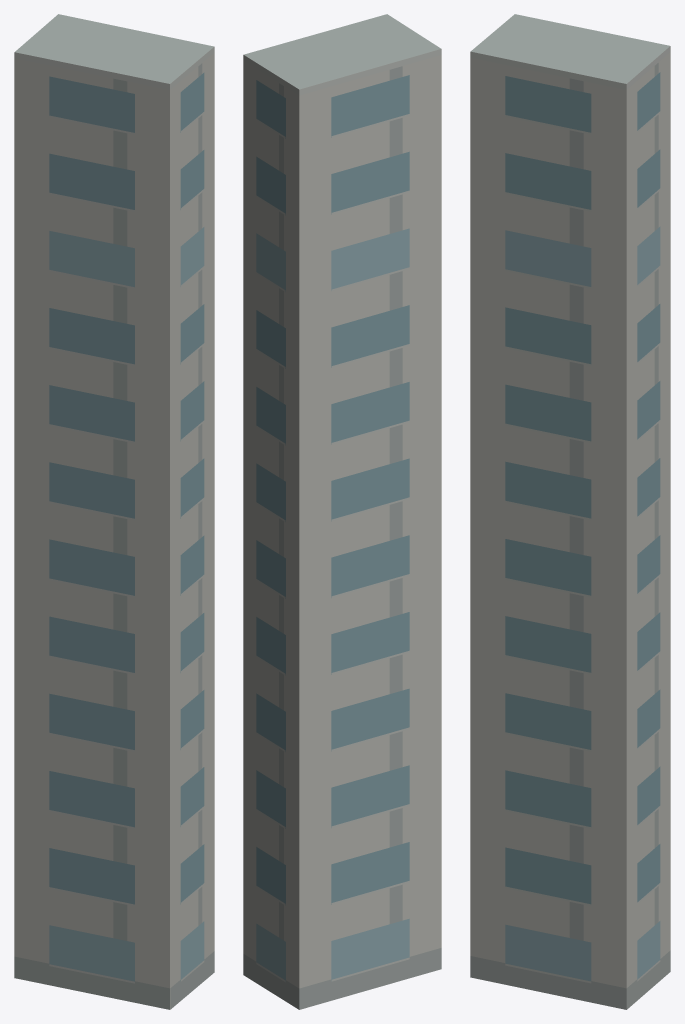
The model's file is survey-upis-32550445.glb.
The picture shows the model from 3 angles, left to right: view 1: azimuth 90°, elevation 25°; view 2: azimuth 150°, elevation 25°; view 3: azimuth 270°, elevation 25°; orthographic projection.
Visible parts, largest first — view 1: survey-upis-32550445.tmp; view 2: survey-upis-32550445.tmp; view 3: survey-upis-32550445.tmp.
Part boxes in pixels (bbox=[...]): survey-upis-32550445.tmp: bbox=[14, 14, 214, 1009]; survey-upis-32550445.tmp: bbox=[243, 14, 441, 1009]; survey-upis-32550445.tmp: bbox=[470, 14, 670, 1009].
Bounding box in the file's own units: 5.95 × 36.6 × 7.18.
